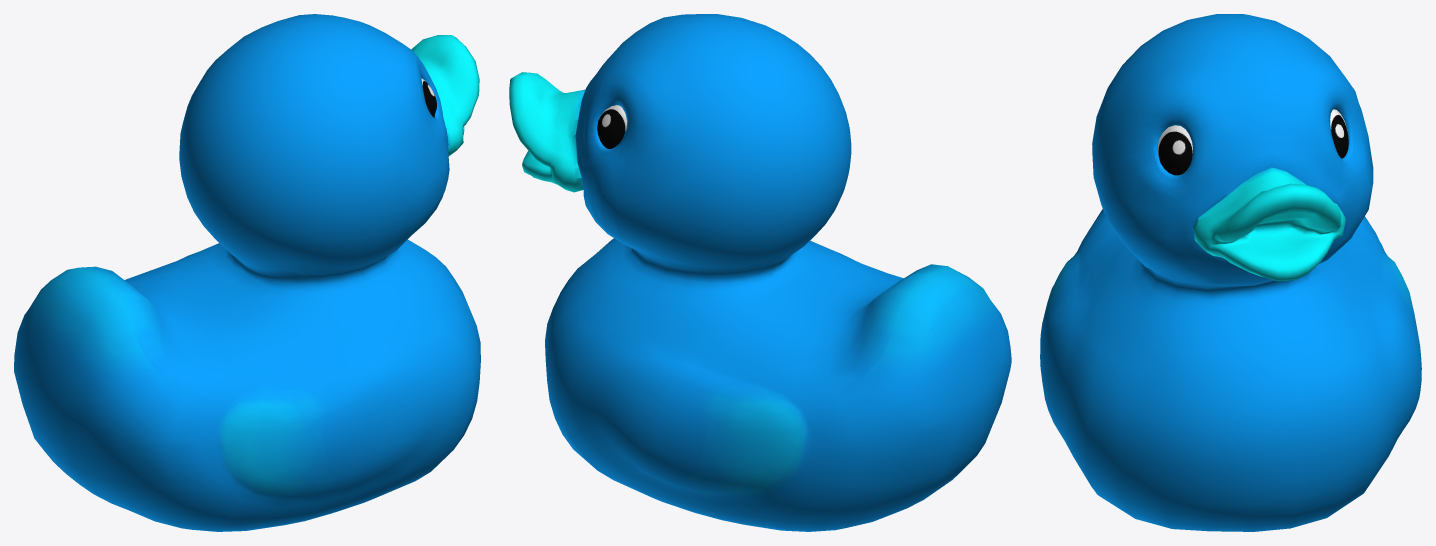
Rendered from DuckMQ.gltf.
The picture shows the model from 3 angles, left to right: view 1: azimuth 30°, elevation 25°; view 2: azimuth 150°, elevation 25°; view 3: azimuth 270°, elevation 25°; orthographic projection. The views are drawn at different scales.
Parts seen in each view (by area): view 1: LOD3spShape; view 2: LOD3spShape; view 3: LOD3spShape.
Part boxes in pixels (x1=…): LOD3spShape: x1=14, y1=14, x2=480, y2=531; LOD3spShape: x1=509, y1=14, x2=1011, y2=531; LOD3spShape: x1=1040, y1=14, x2=1421, y2=531.
Size of the model in its own units: 1.65 by 1.54 by 1.15.
1 material, 1 textured.
